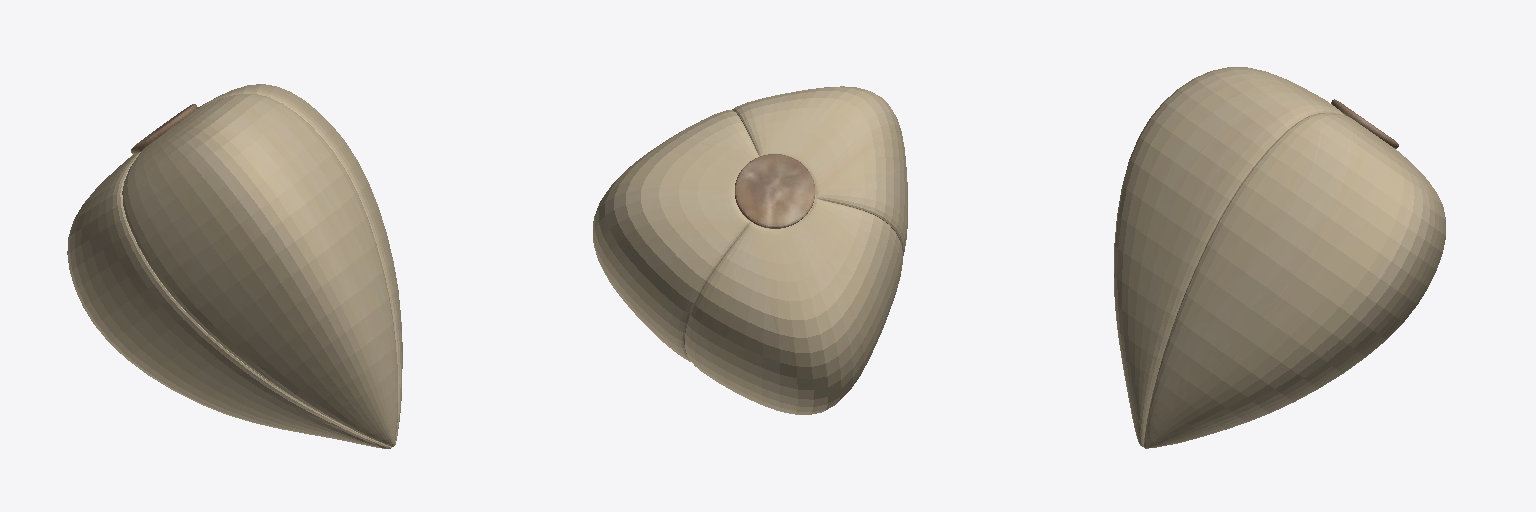
The picture shows the model from 3 angles: view 1: azimuth 30°, elevation 25°; view 2: azimuth 150°, elevation 25°; view 3: azimuth 270°, elevation 25°; orthographic projection.
Parts seen in each view (by area): view 1: GrainBuckwheat047; view 2: GrainBuckwheat047; view 3: GrainBuckwheat047.
Boxes of the visible parts, x1=… form: GrainBuckwheat047: x1=67, y1=84, x2=402, y2=448; GrainBuckwheat047: x1=593, y1=86, x2=907, y2=414; GrainBuckwheat047: x1=1114, y1=67, x2=1445, y2=448.
Size of the model in its own units: 0.0253 by 0.0285 by 0.0268.
Materials: 1 (1 with a texture image).